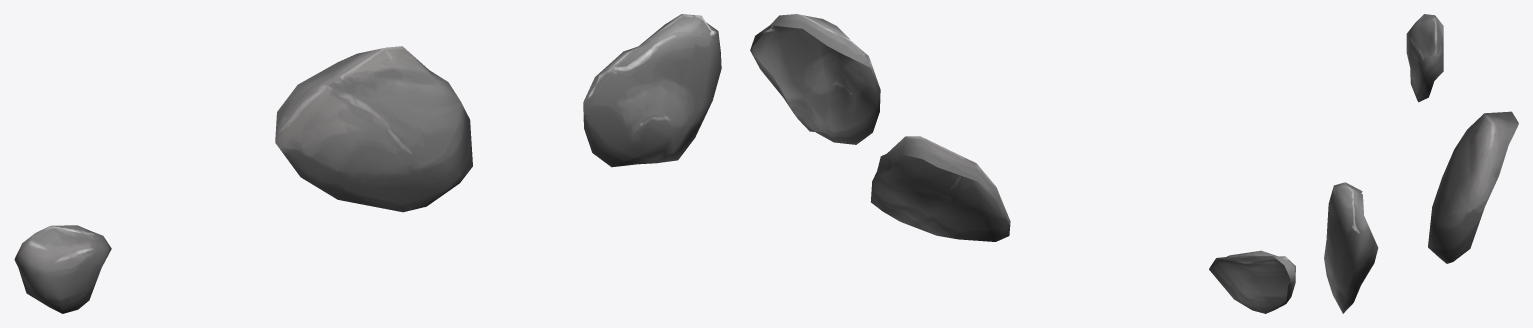
File: mod1_rocas.FBX
3 views of the same model, side by side, from view 1: azimuth 30°, elevation 25°; view 2: azimuth 150°, elevation 25°; view 3: azimuth 270°, elevation 25° (orthographic). The views are drawn at different scales.
Parts seen in each view (by area): view 1: rocaL, rocaM, rocaS; view 2: rocaM, rocaL, rocaS; view 3: rocaL, rocaM, rocaS.
Part boxes in pixels (x1,y1,x2,y2): rocaL: (275,46,472,212); rocaM: (583,14,721,167); rocaS: (14,225,111,313); rocaM: (750,14,880,144); rocaL: (871,136,1010,241); rocaS: (1209,250,1295,313); rocaL: (1428,111,1518,263); rocaM: (1324,182,1378,313); rocaS: (1406,14,1443,102).
Bounding box in the file's own units: 633 × 166 × 174.
